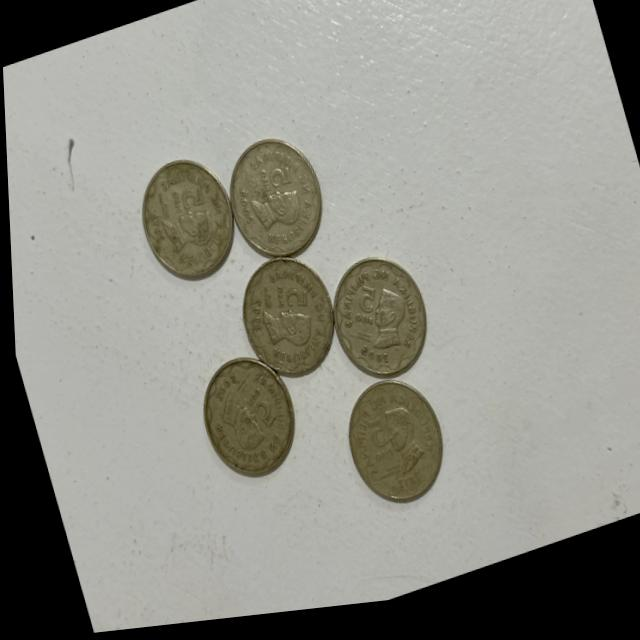5_Old_Front: (240, 153, 297, 211), (338, 280, 382, 347), (238, 384, 282, 449), (257, 279, 311, 331), (352, 412, 392, 478), (163, 182, 210, 222)
